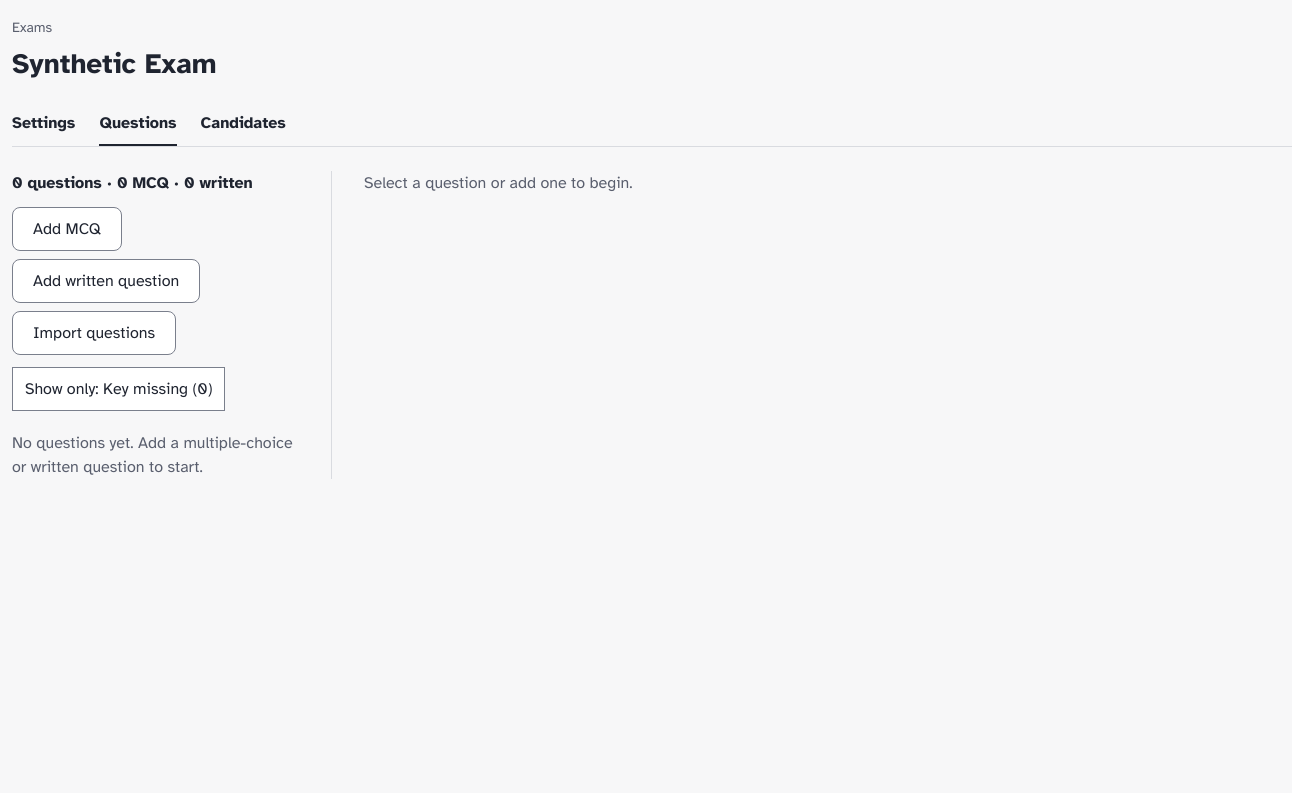
Scenario: QuestionBuilder › keeps client-generated question and option UUIDs when a lost save is retried
Expected: the text "No questions yet. Add a multiple-choice or written question to start." is shown, 12,431 -> 311,479
Click the button "Add MCQ" at {"x": 67, "y": 229}, box 12,207 -> 122,251
(page scrolled)
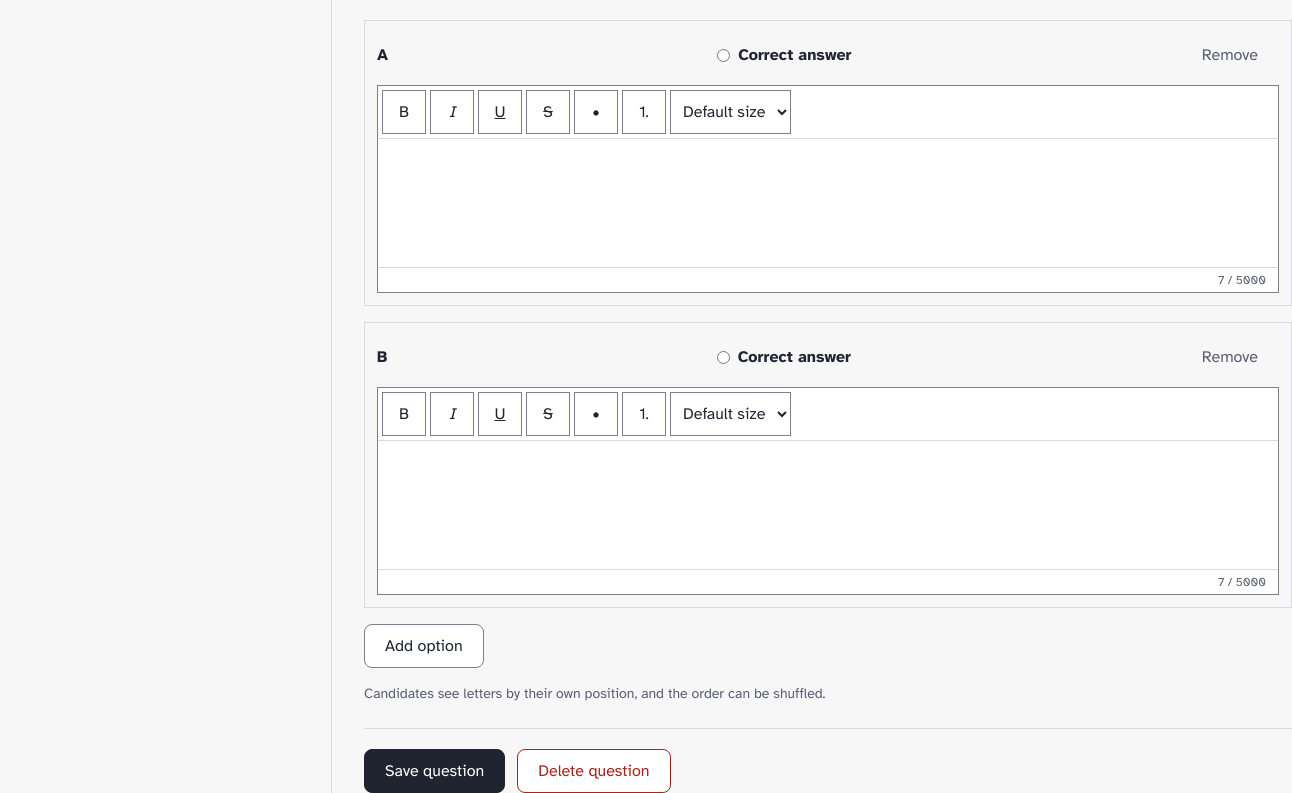
Click the button "Save question" at {"x": 435, "y": 771}, box 364,749 -> 505,792
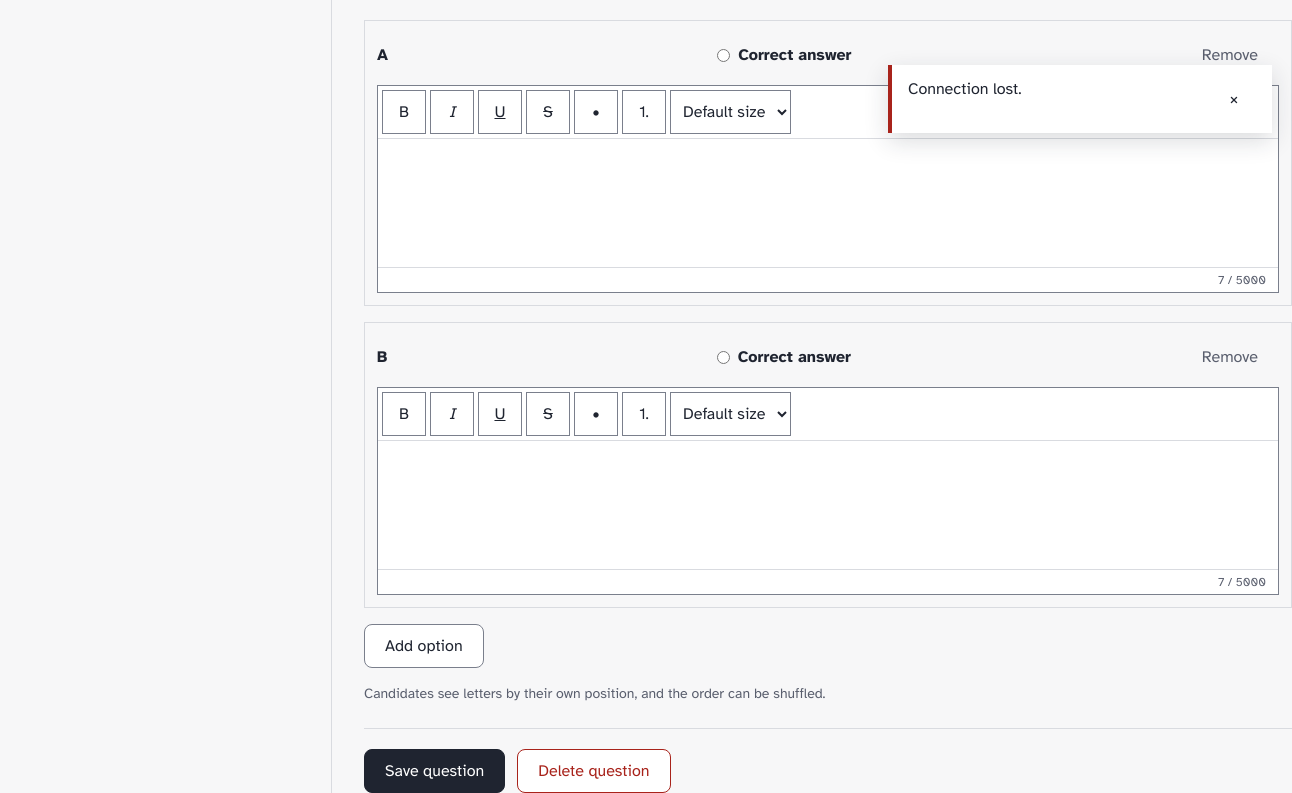
Now the text "Connection lost." is shown, box 908,77 -> 1022,101
Click the button "Save question" at {"x": 435, "y": 771}, box 364,749 -> 505,792
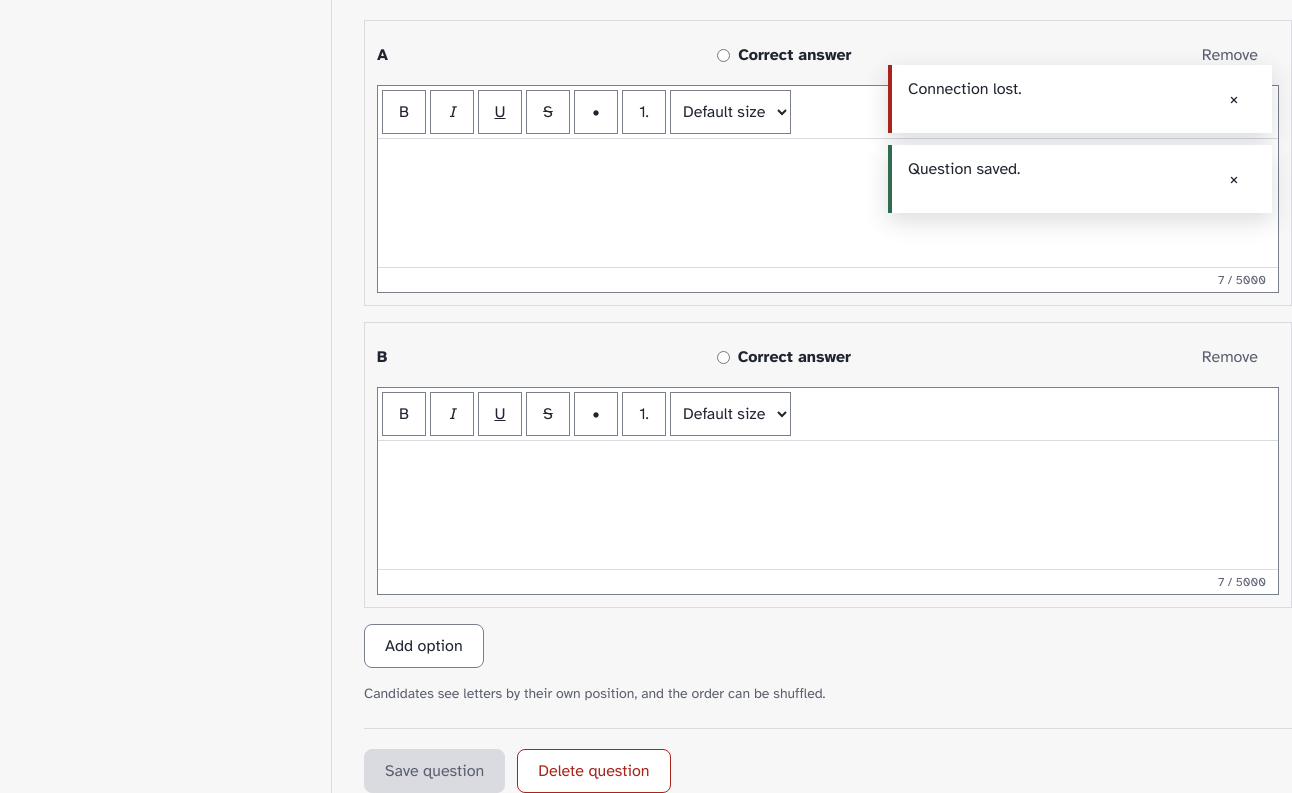
Now the text "Question saved." is shown, box 908,157 -> 1020,181
